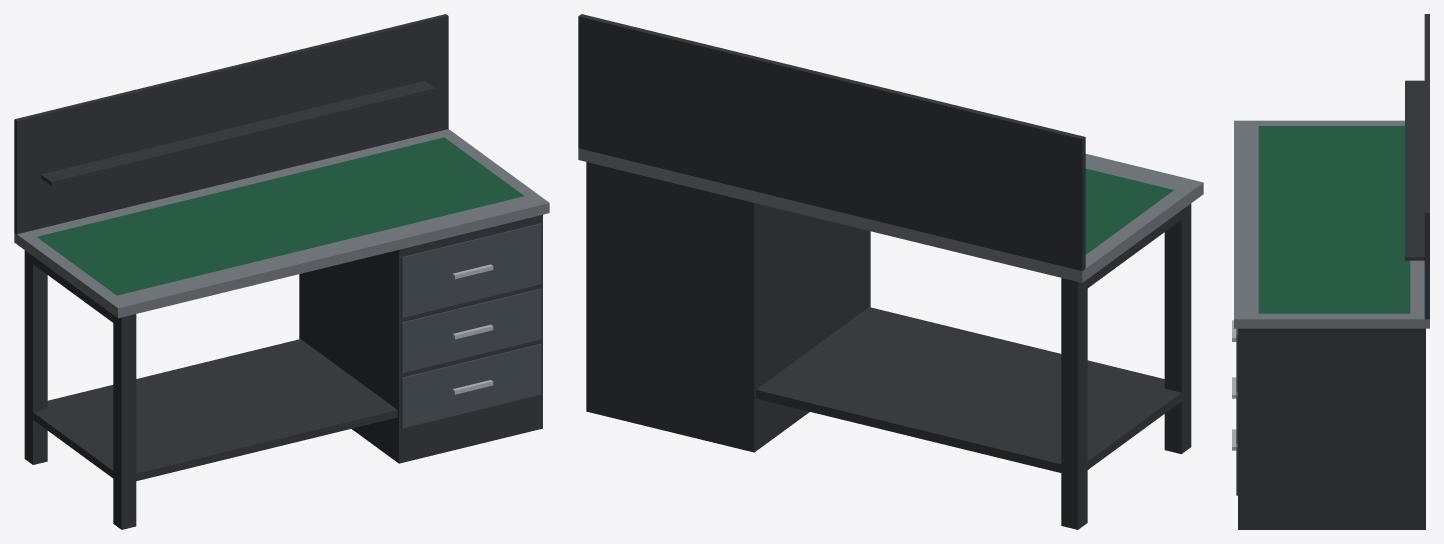
Rendered from Workbench_Maintenance.glb.
3 renders of one model, left to right at view 1: azimuth 30°, elevation 25°; view 2: azimuth 150°, elevation 25°; view 3: azimuth 270°, elevation 25°, orthographic. The views are drawn at different scales.
Parts seen in each view (by area): view 1: Workbench_Maintenance; view 2: Workbench_Maintenance; view 3: Workbench_Maintenance.
Boxes of the visible parts, x1,y1,x2,y2 form: Workbench_Maintenance: [14, 14, 549, 529]; Workbench_Maintenance: [578, 14, 1203, 529]; Workbench_Maintenance: [1232, 14, 1429, 529].
Size of what is drawn, in the model's own units: 1.8 by 1.35 by 0.757.
